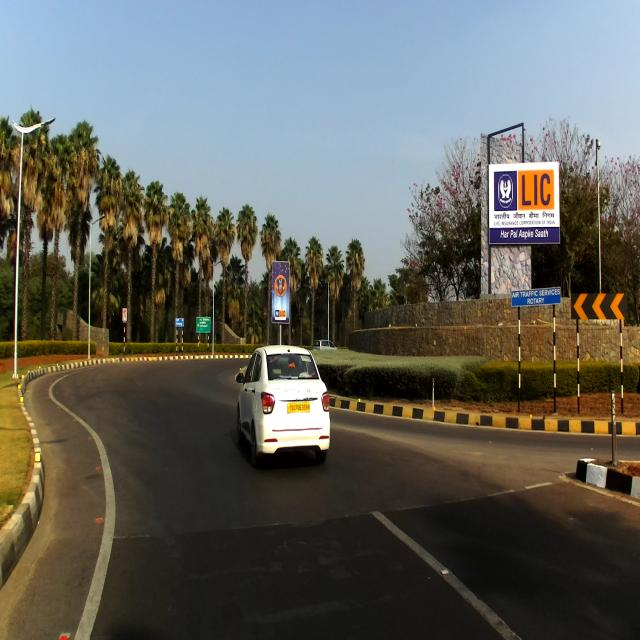car ahead at: (234, 333, 337, 469)
